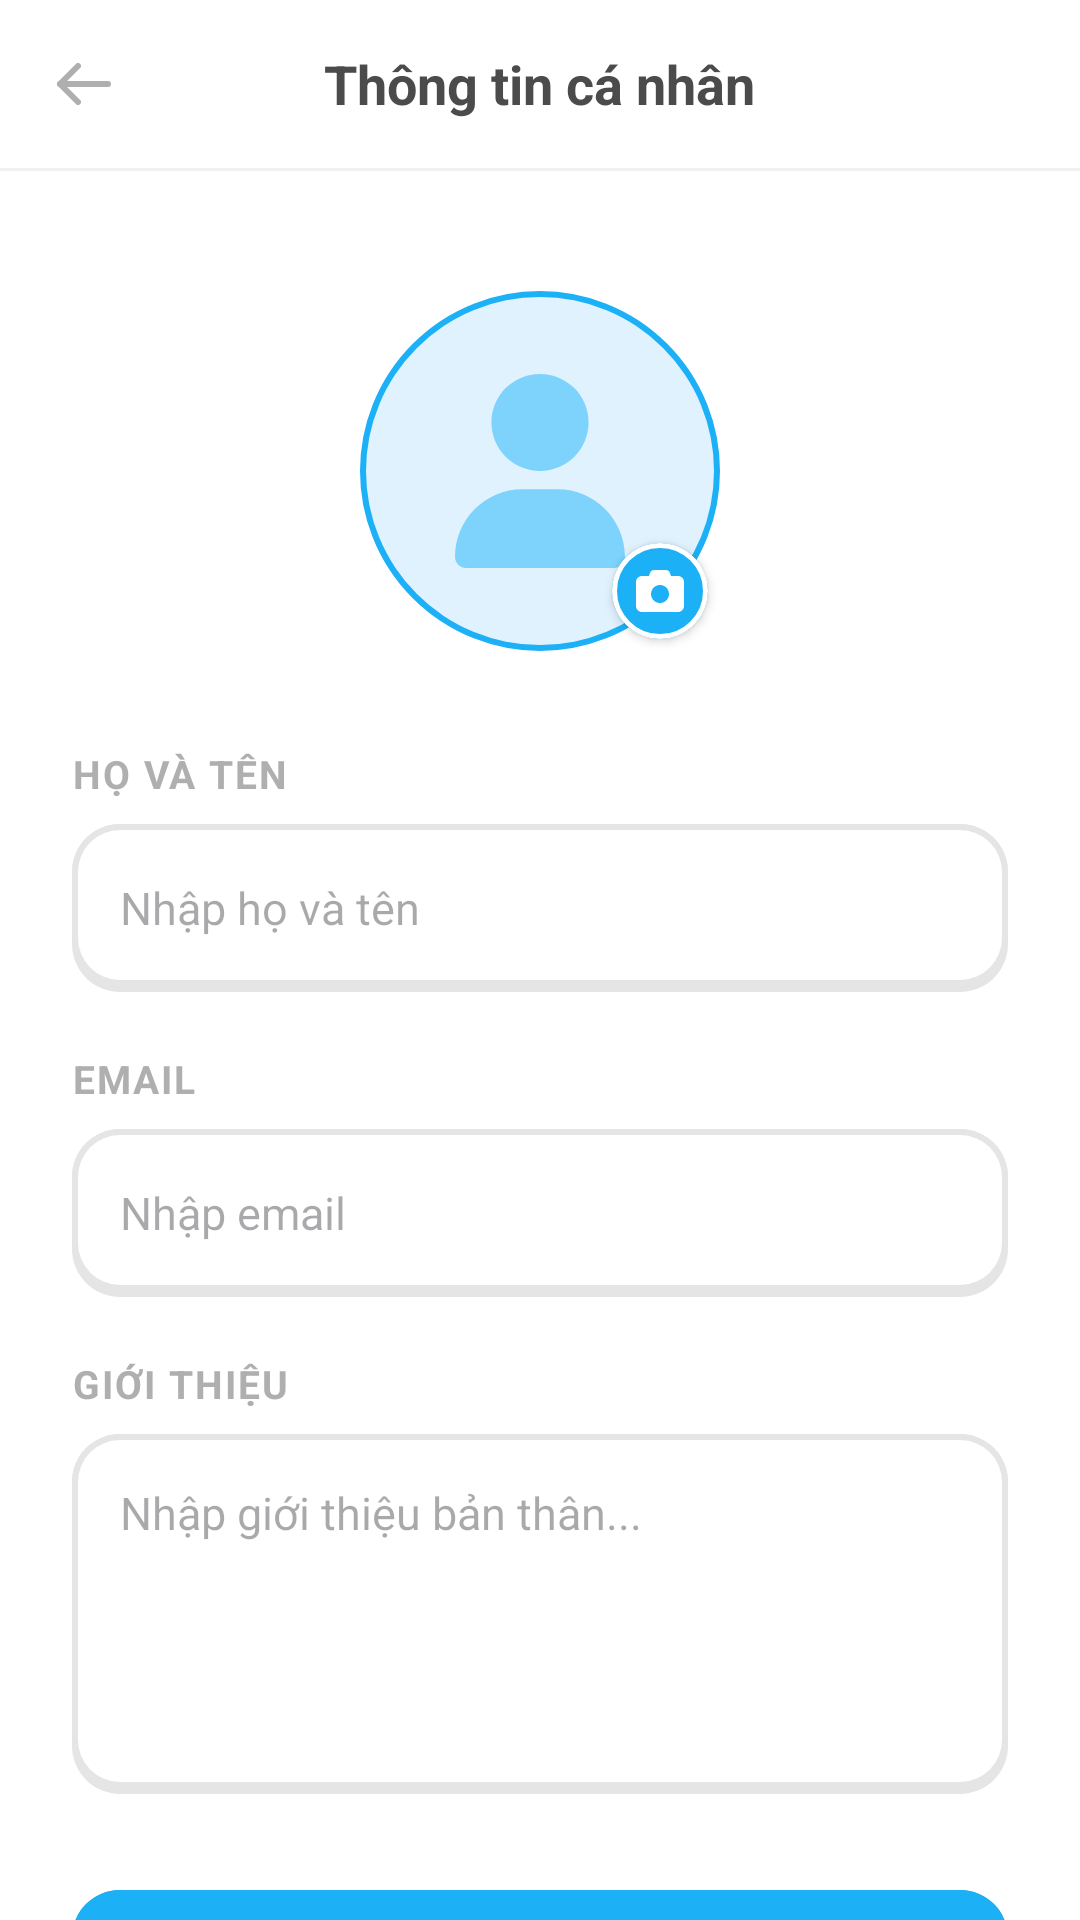

Icon click points for this 1080px×1920px phone screenshot, format [x,y]:
arrow left: [84,84]
cam st: [660,591]
